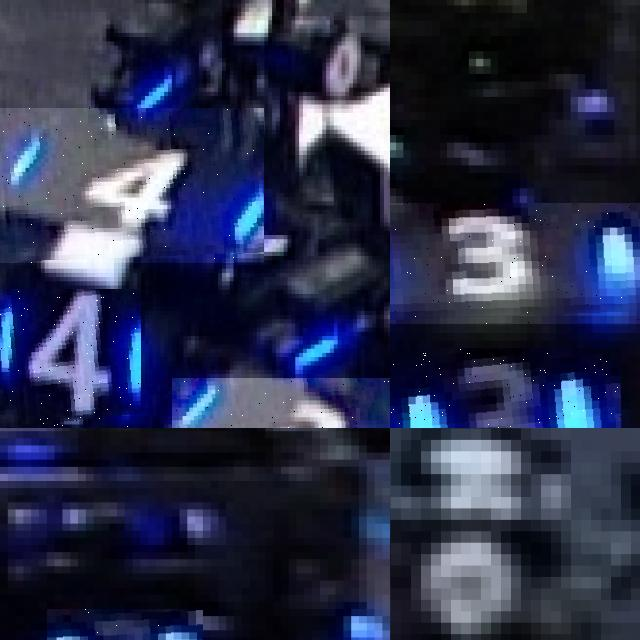B2: (47, 609, 203, 640)
B3: (390, 203, 640, 325), (390, 348, 621, 428)
B4: (0, 108, 264, 264), (0, 289, 141, 428), (171, 378, 390, 428)
